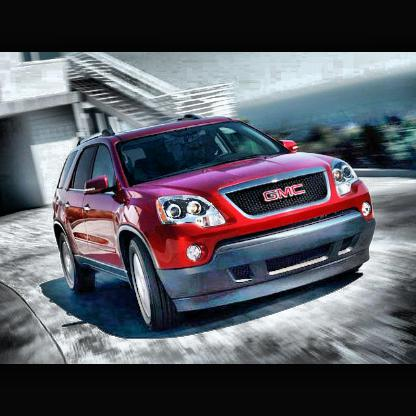GMC Acadia SUV 2012: (52, 114, 376, 330)
